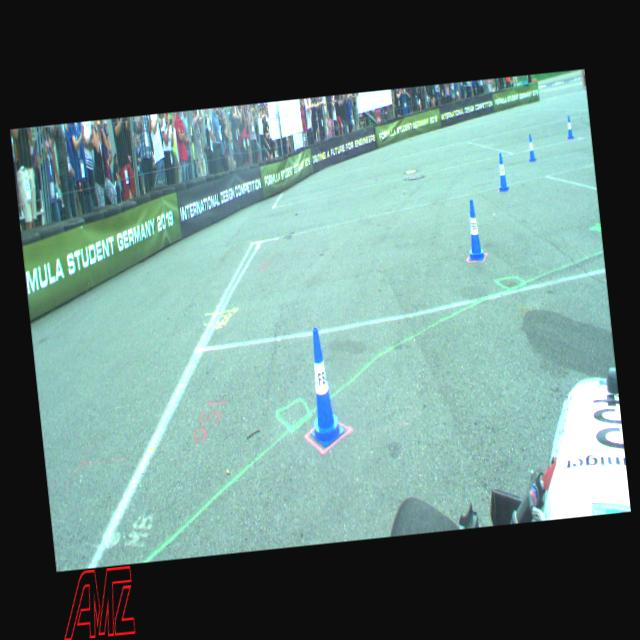blue_cone: (300, 324, 344, 446), (462, 198, 484, 262), (495, 152, 509, 192), (526, 134, 536, 162), (565, 115, 573, 139)
